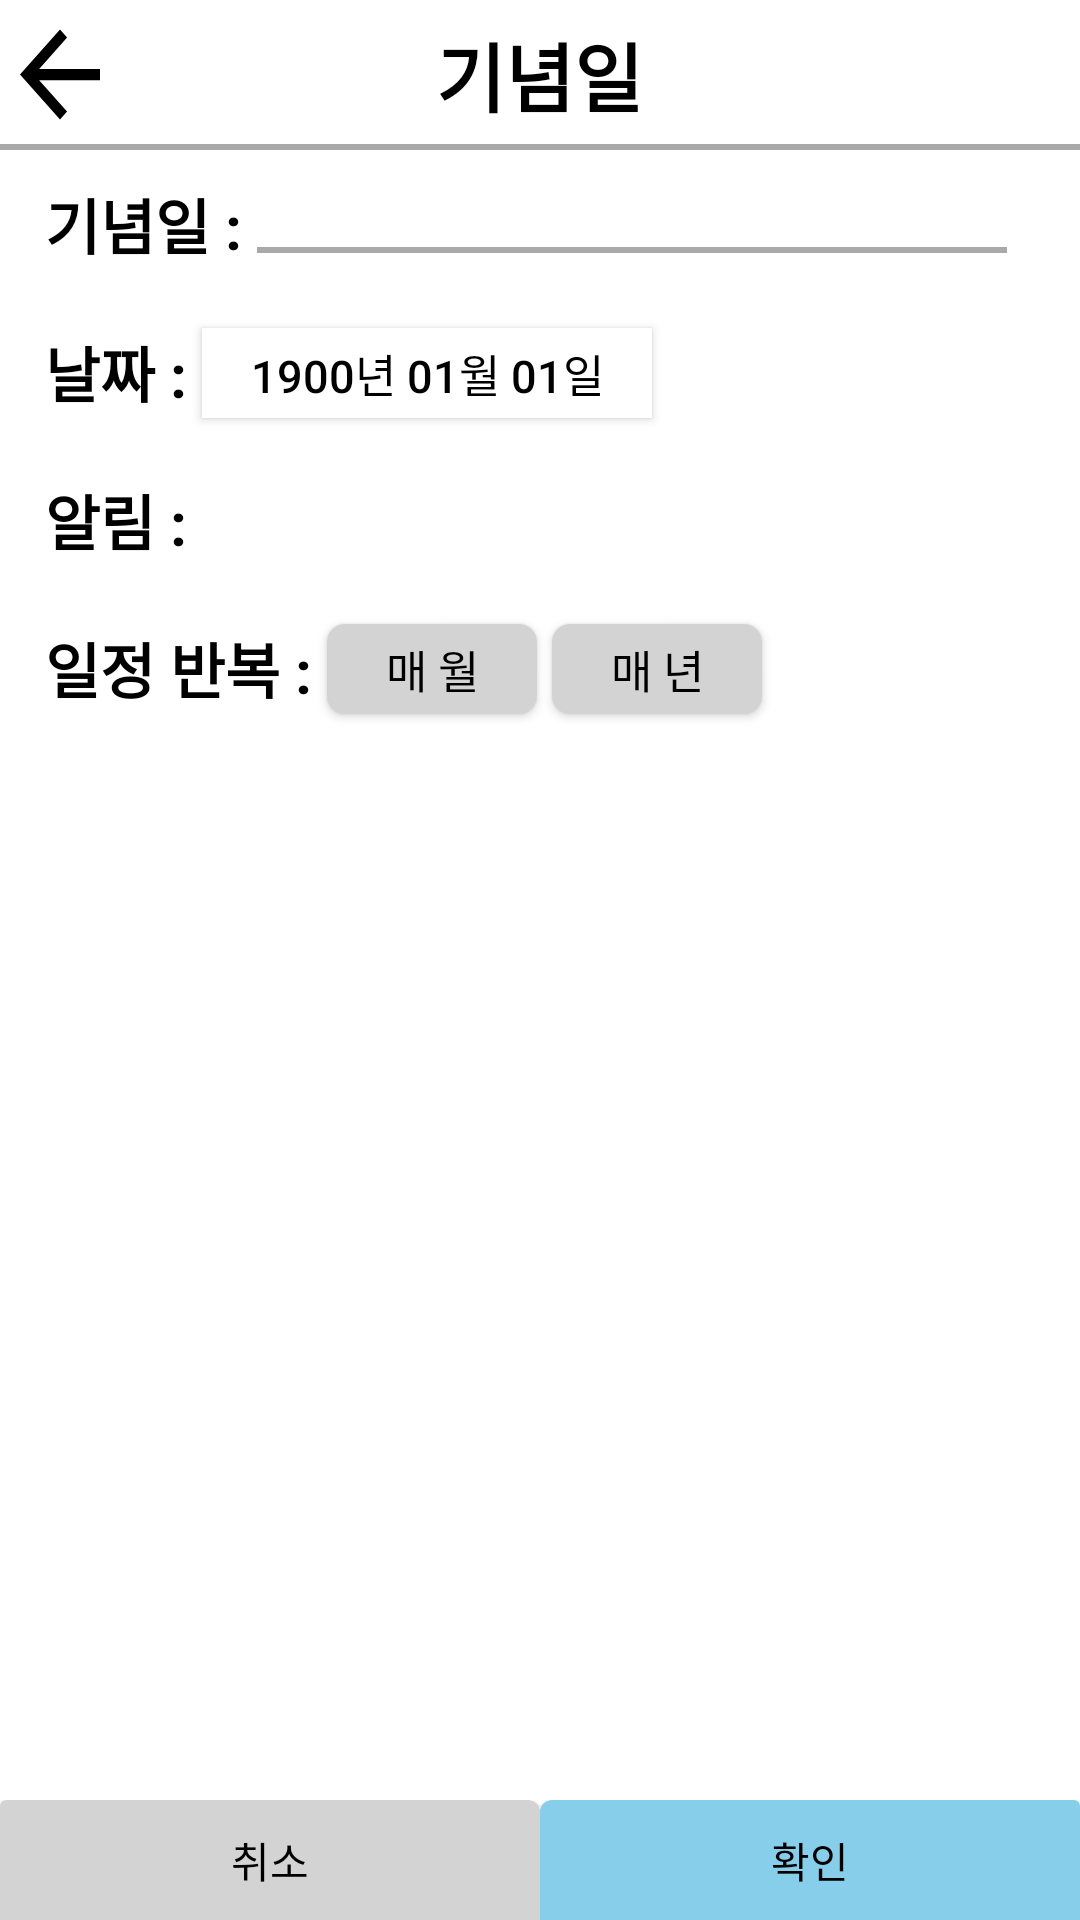

Icons on this 1080 x 1920 Android screen, each with its box as (x1, y1, x2, y2):
arrow back: (20, 29, 100, 120)
